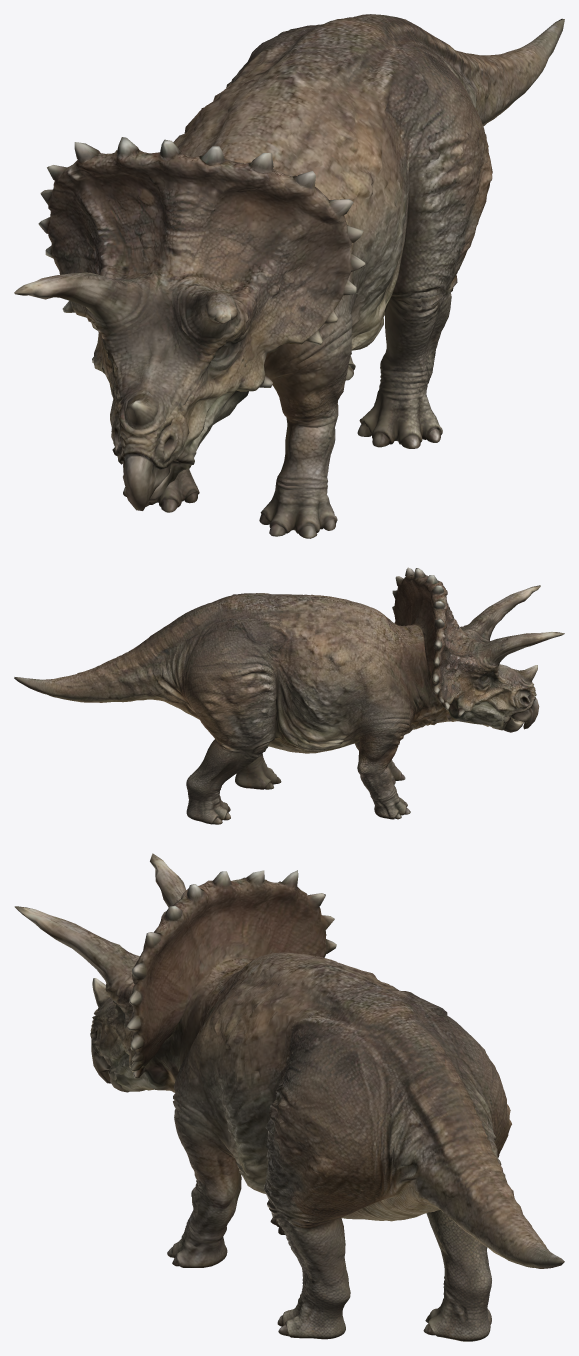
File: triceratops.glb
3 views of the same model, one above another, from view 1: azimuth 30°, elevation 25°; view 2: azimuth 150°, elevation 25°; view 3: azimuth 270°, elevation 25° (orthographic). The views are drawn at different scales.
Parts seen in each view (by area): view 1: tripo_node_e80d2414-d3ab-495d-bbf3-218fa7ced9ef; view 2: tripo_node_e80d2414-d3ab-495d-bbf3-218fa7ced9ef; view 3: tripo_node_e80d2414-d3ab-495d-bbf3-218fa7ced9ef.
Part boxes in pixels (bbox=[...]): tripo_node_e80d2414-d3ab-495d-bbf3-218fa7ced9ef: bbox=[14, 14, 564, 538]; tripo_node_e80d2414-d3ab-495d-bbf3-218fa7ced9ef: bbox=[14, 567, 564, 824]; tripo_node_e80d2414-d3ab-495d-bbf3-218fa7ced9ef: bbox=[14, 853, 564, 1341].
Bounding box in the file's own units: 0.9876 × 0.477 × 0.7053.
1 material, 1 textured.
